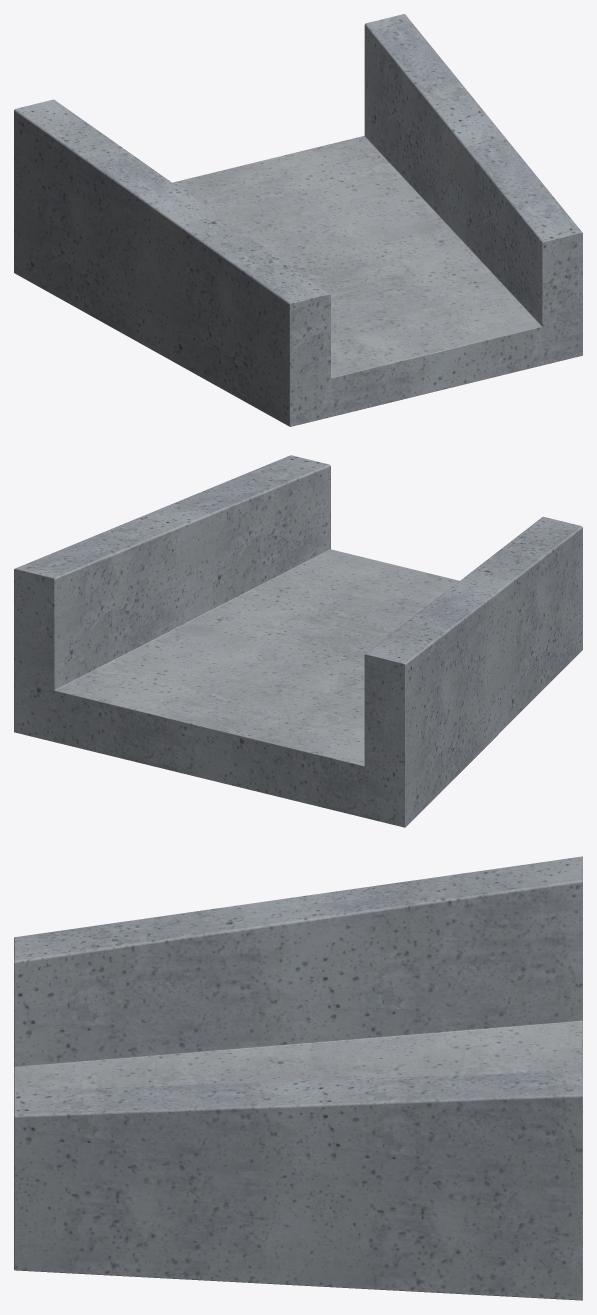
File: Korytko Naskarpowe.glb
3 views of the same model, one above another, from view 1: azimuth 30°, elevation 25°; view 2: azimuth 150°, elevation 25°; view 3: azimuth 270°, elevation 25° (orthographic). The views are drawn at different scales.
Parts seen in each view (by area): view 1: Korytko Naskarpowe; view 2: Korytko Naskarpowe; view 3: Korytko Naskarpowe.
Boxes of the visible parts, x1=… form: Korytko Naskarpowe: x1=14, y1=14, x2=582, y2=426; Korytko Naskarpowe: x1=14, y1=455, x2=582, y2=827; Korytko Naskarpowe: x1=14, y1=856, x2=582, y2=1300.
Size of the model in its own units: 0.8974 by 0.3593 by 0.9009.
1 material, 1 textured.
